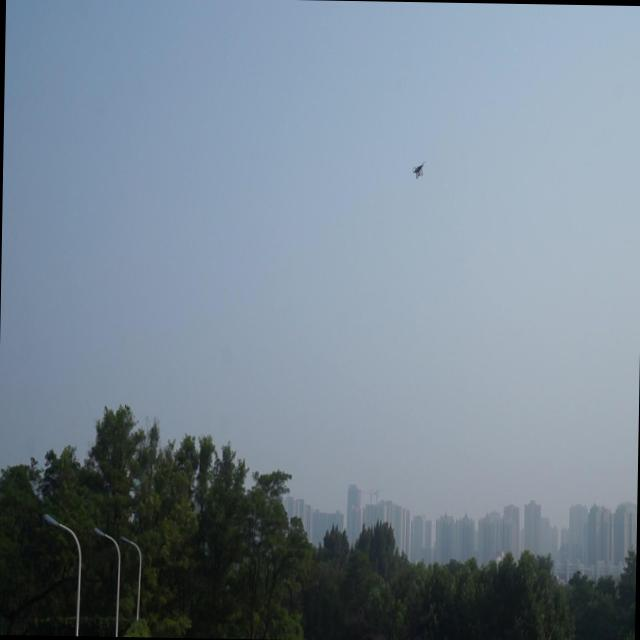drone: (410, 158, 426, 178)
